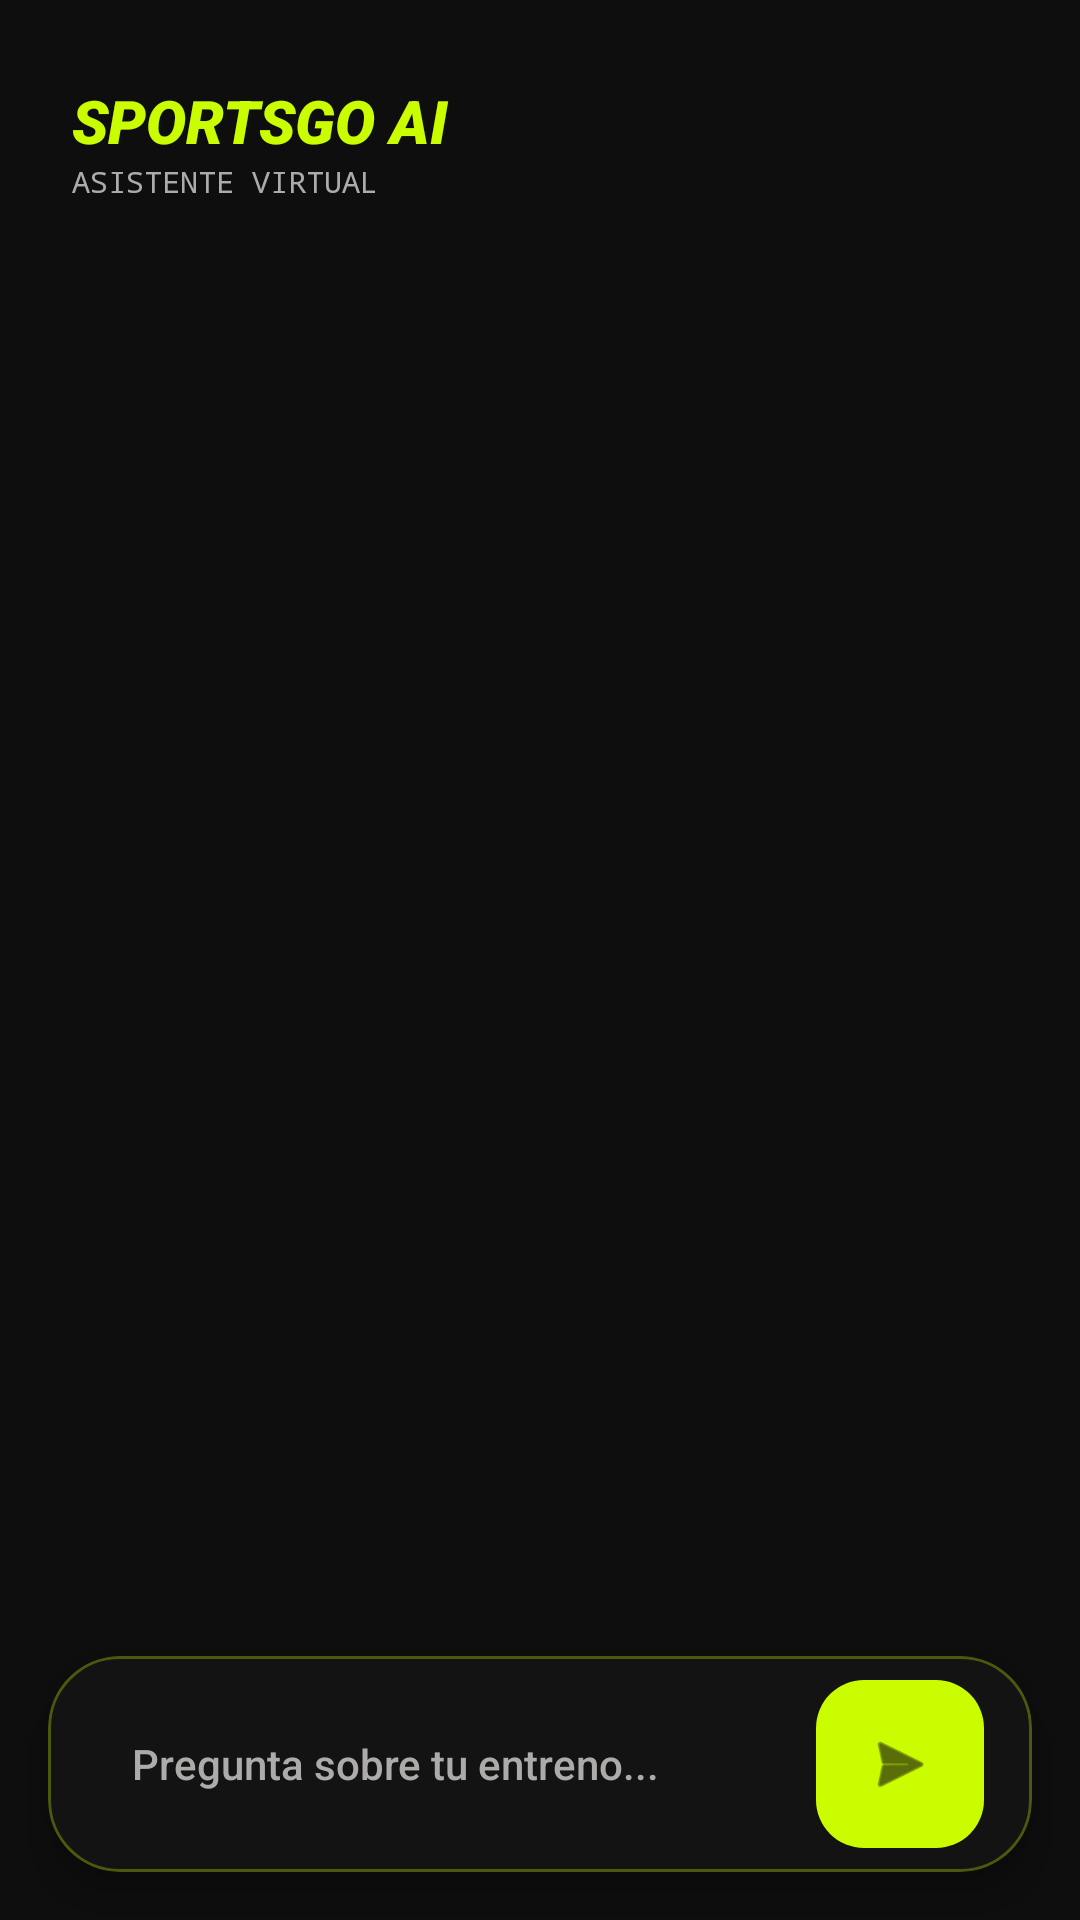

Where to tap for icons on this 1080 × 1920 app screen, as (x,y):
send: (900,1764)
